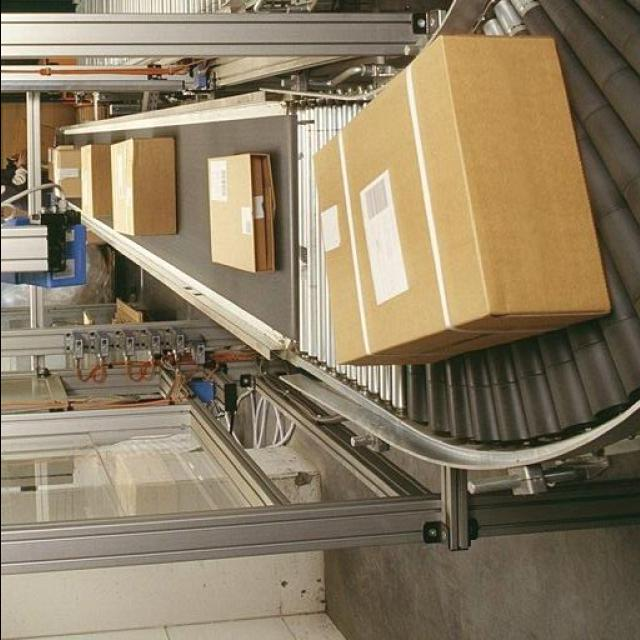conveyor: (55, 0, 640, 467)
